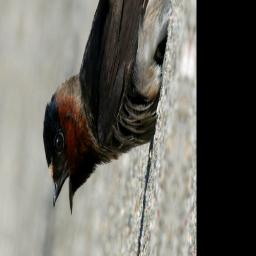Swallow: (34, 0, 175, 246)
